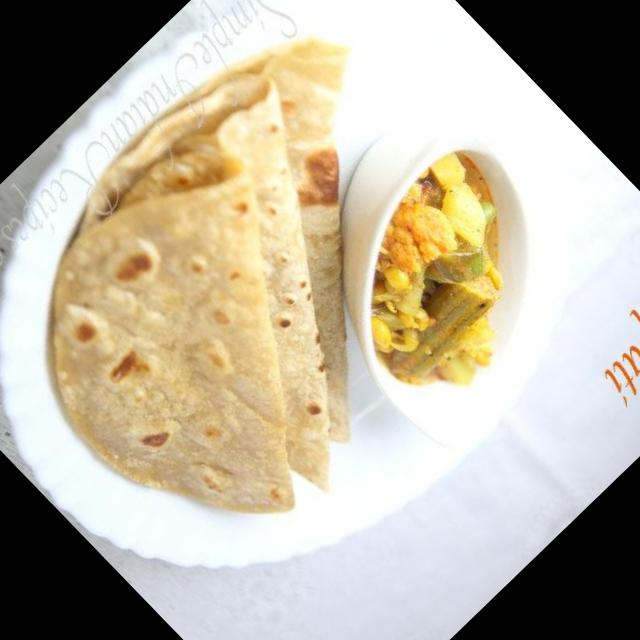roti: (54, 41, 350, 517)
